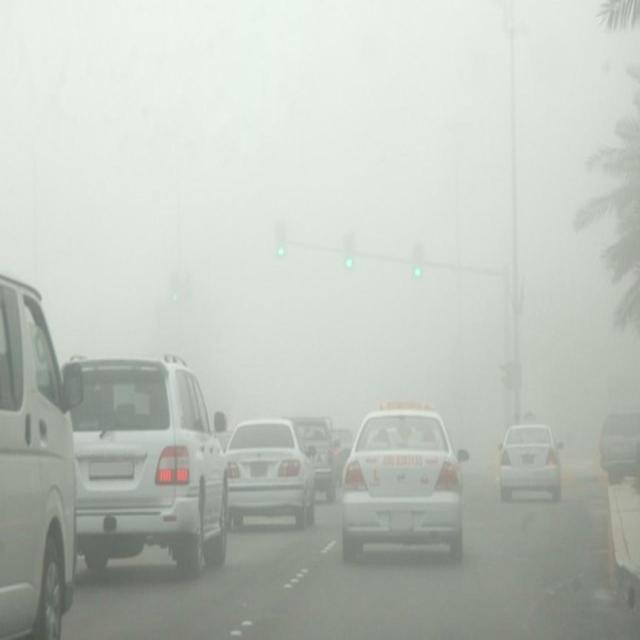Car: (69, 329, 228, 565), (0, 237, 91, 640), (333, 407, 468, 559), (484, 388, 567, 518), (222, 417, 306, 531)
